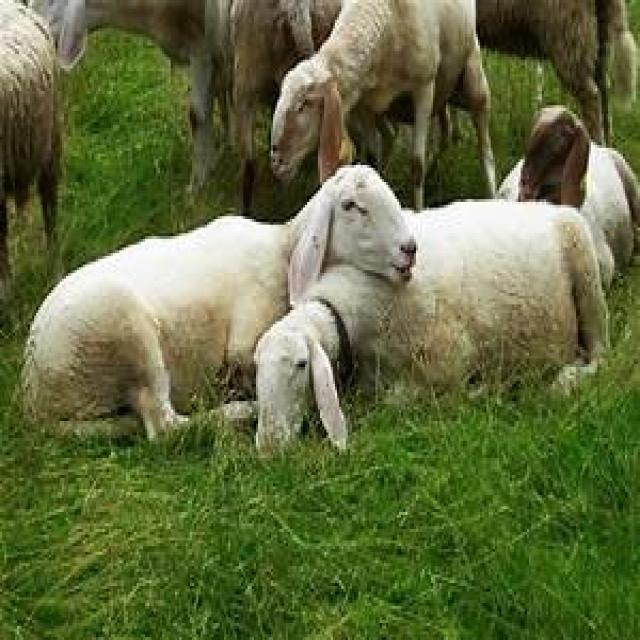animal: (21, 170, 415, 441), (256, 202, 603, 466), (269, 0, 488, 174)
